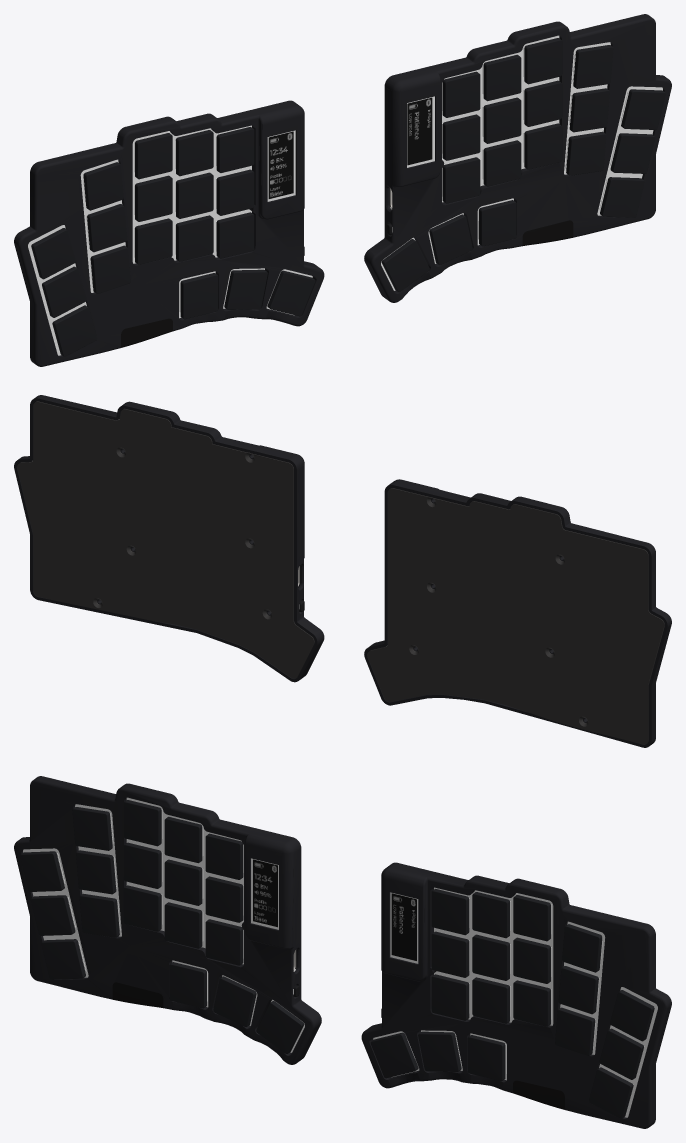
Rendered from wafer.glb.
3 renders of one model, top to bottom at view 1: azimuth 30°, elevation 25°; view 2: azimuth 150°, elevation 25°; view 3: azimuth 330°, elevation 25°, orthographic.
Visible parts, largest first — view 1: case_L, case_R, pcb_L, pcb_R, screen_R, screen_L, key_R_r1c4, key_L_r1c4, key_L_r2c4, key_R_r1c3, key_R_r2c3, key_R_r2c4 (+34 smaller); view 2: plate_L, plate_R, case_R, case_L; view 3: case_R, case_L, pcb_R, pcb_L, screen_R, screen_L, key_L_r1c4, key_L_r1c3, key_L_r2c3, key_R_r1c4, key_R_r2c4, key_L_r2c4 (+34 smaller).
Part boxes in pixels (<box>): case_L: <box>14,100,324,366</box>; case_R: <box>364,14,671,302</box>; pcb_L: <box>28,125,312,355</box>; pcb_R: <box>381,35,662,290</box>; screen_R: <box>407,97,432,165</box>; screen_L: <box>268,131,293,198</box>; key_R_r1c4: <box>442,114,480,160</box>; key_L_r1c4: <box>216,169,254,215</box>; key_L_r2c4: <box>216,212,254,258</box>; key_R_r1c3: <box>483,97,521,143</box>; key_R_r2c3: <box>483,140,521,186</box>; key_R_r2c4: <box>442,157,480,203</box>; plate_L: <box>367,488,664,744</box>; plate_R: <box>17,401,314,678</box>; case_R: <box>14,395,324,682</box>; case_L: <box>364,479,671,747</box>; case_R: <box>361,862,671,1128</box>; case_L: <box>14,776,321,1064</box>; pcb_R: <box>373,887,657,1117</box>; pcb_L: <box>23,797,304,1052</box>; screen_R: <box>391,893,416,960</box>; screen_L: <box>253,859,277,927</box>; key_L_r1c4: <box>205,876,243,922</box>; key_L_r1c3: <box>164,859,202,905</box>; key_L_r2c3: <box>164,902,202,948</box>; key_R_r1c4: <box>431,931,469,977</box>; key_R_r2c4: <box>431,974,469,1020</box>; key_L_r2c4: <box>205,919,243,965</box>.
Size of the model in its own units: 0.2799 by 0.0963 by 0.0081.
Materials: 19 (2 with a texture image).
